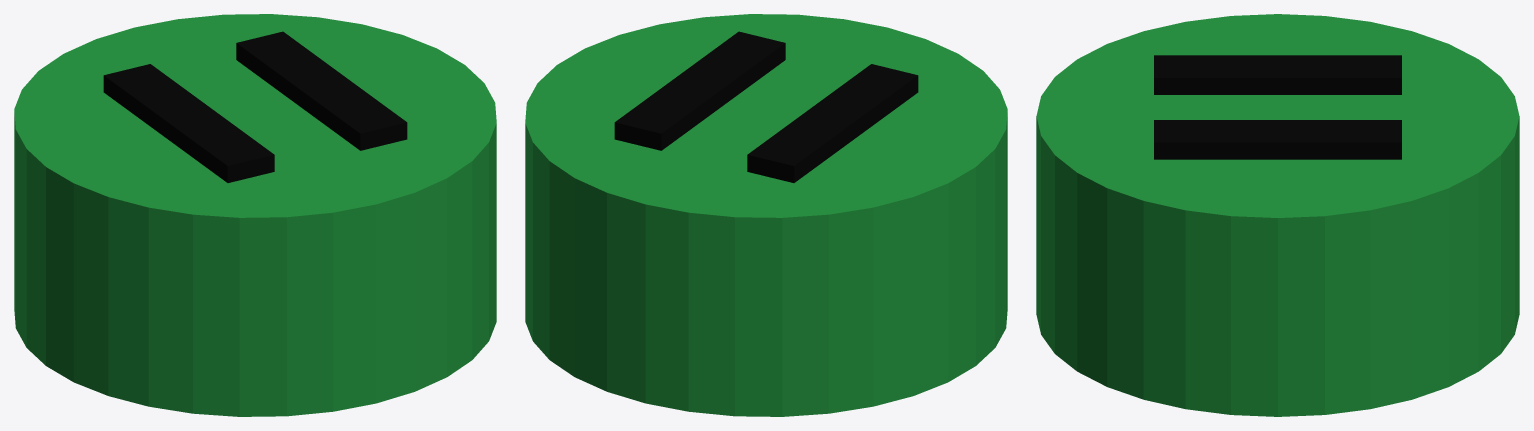
File: unpaused.fbx
The picture shows the model from 3 angles, left to right: view 1: azimuth 30°, elevation 25°; view 2: azimuth 150°, elevation 25°; view 3: azimuth 270°, elevation 25°; orthographic projection.
Parts seen in each view (by area): view 1: Cylinder; view 2: Cylinder; view 3: Cylinder.
Part boxes in pixels (x1,y1,x2,y2): Cylinder: [14, 14, 496, 416]; Cylinder: [525, 14, 1007, 416]; Cylinder: [1036, 14, 1519, 416].
Size of the model in its own units: 414 by 204 by 414.
